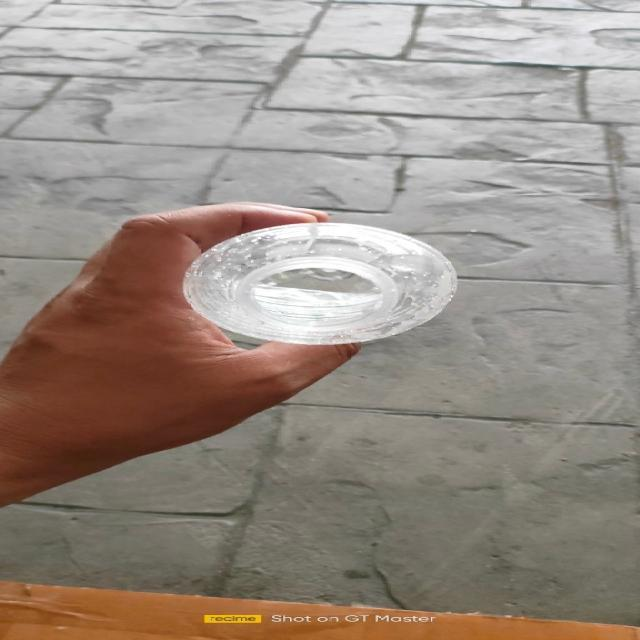plastic_bottle: (185, 222, 459, 343)
